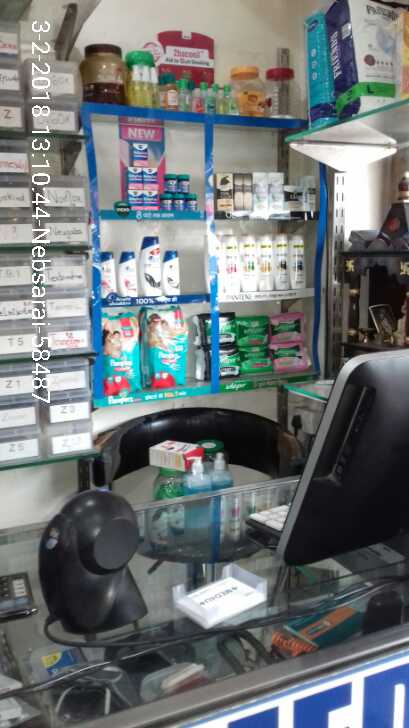vicks: (122, 137, 198, 209)
